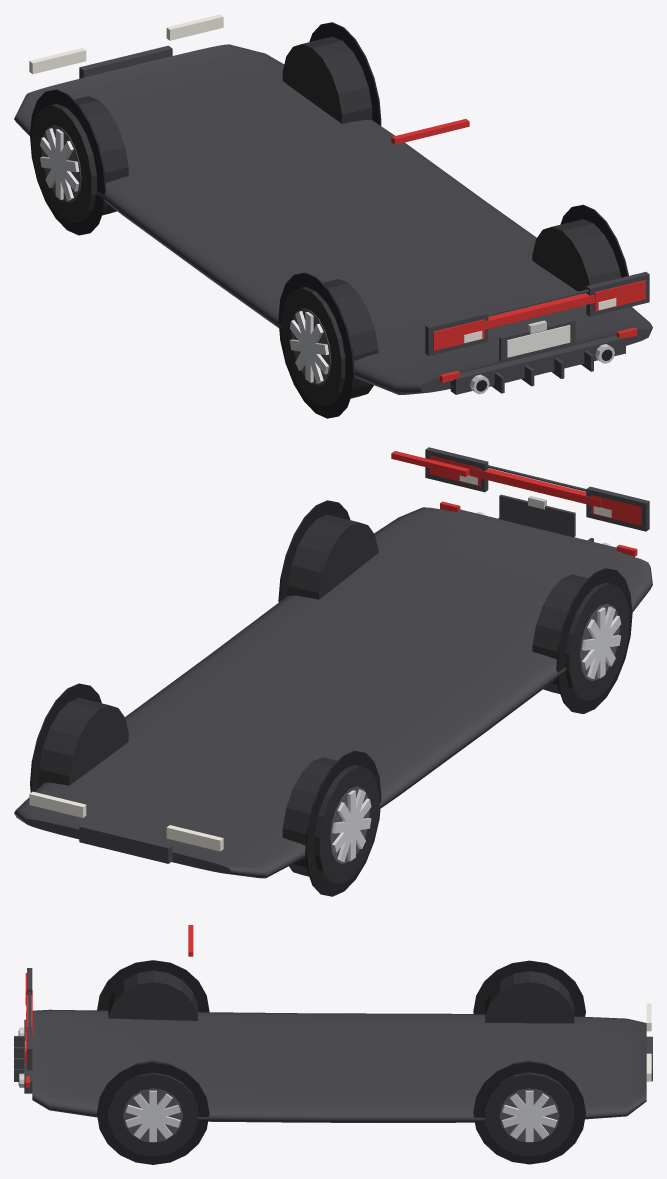
The model's file is sedan_trim.glb.
3 renders of one model, top to bottom at view 1: azimuth 30°, elevation 25°; view 2: azimuth 150°, elevation 25°; view 3: azimuth 270°, elevation 25°, orthographic. The views are drawn at different scales.
Bounding box in the file's own units: 1.98 × 1.49 × 4.92.
